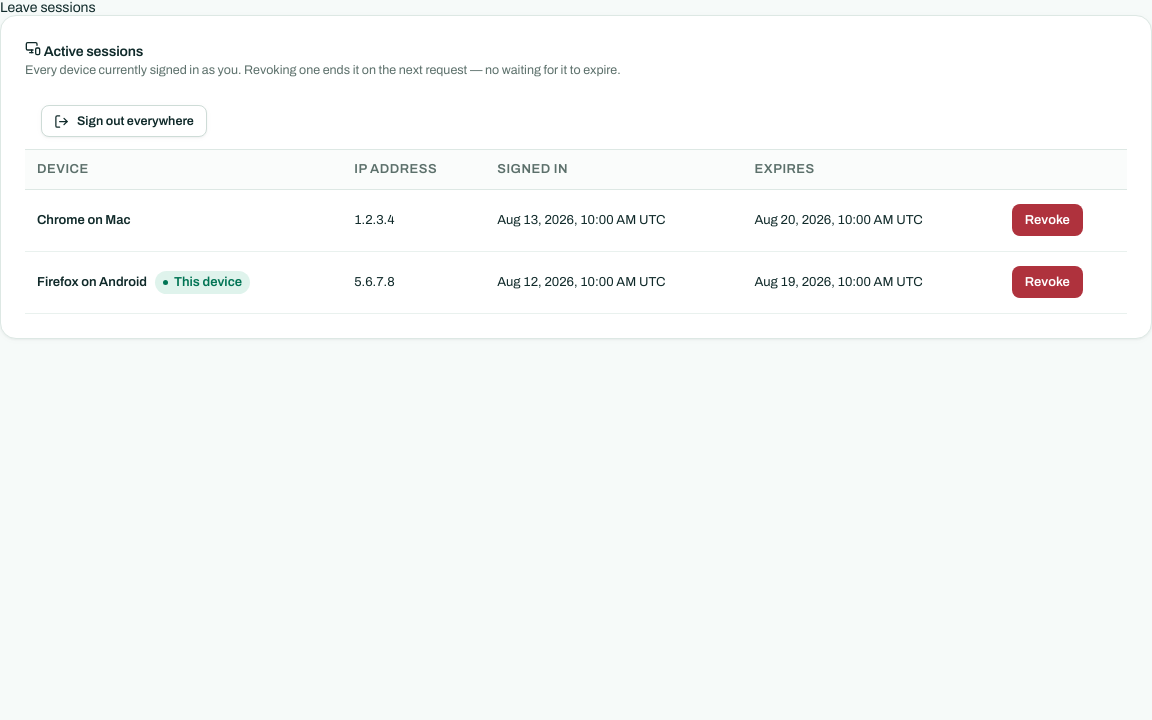
Scenario: session mutation recovery › replays the exact revoke after a lost response without restoring a ghost session
Click the button "Revoke" in the row of "Chrome on Mac" at (1047, 220), box [1012,204,1083,236]
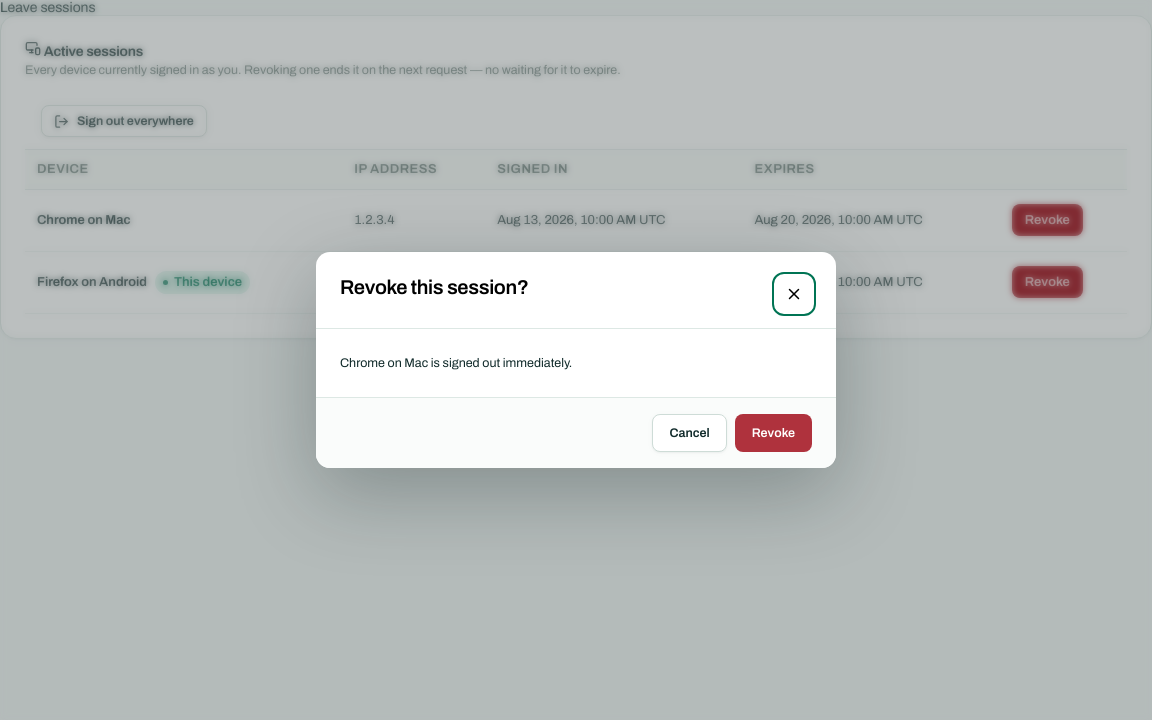
Click the button "Revoke" at (773, 433), box [735,414,812,452]
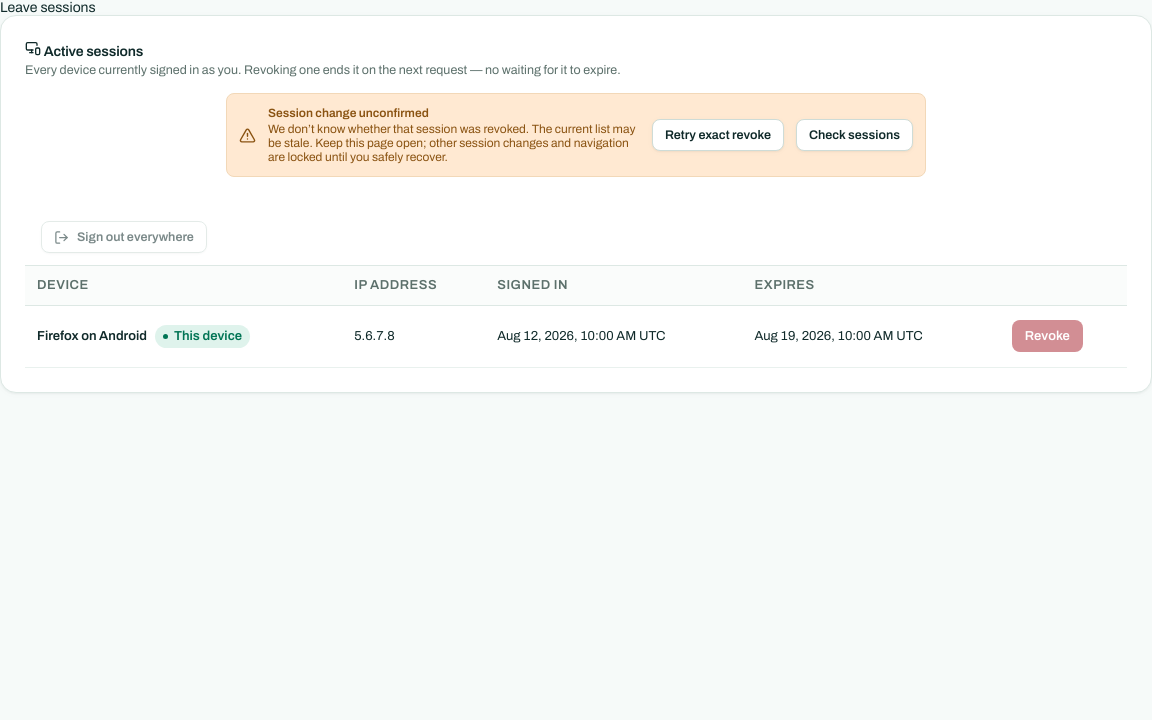
Check: the text "Session change unconfirmed" is shown, box [268,106,429,120]
Check: the text "We don’t know whether that session was revoked." is shown, box [268,122,636,150]
Check: the text "Chrome on Mac" is gone
Click the link to "/organizations" at (48, 8), box [0,0,96,15]
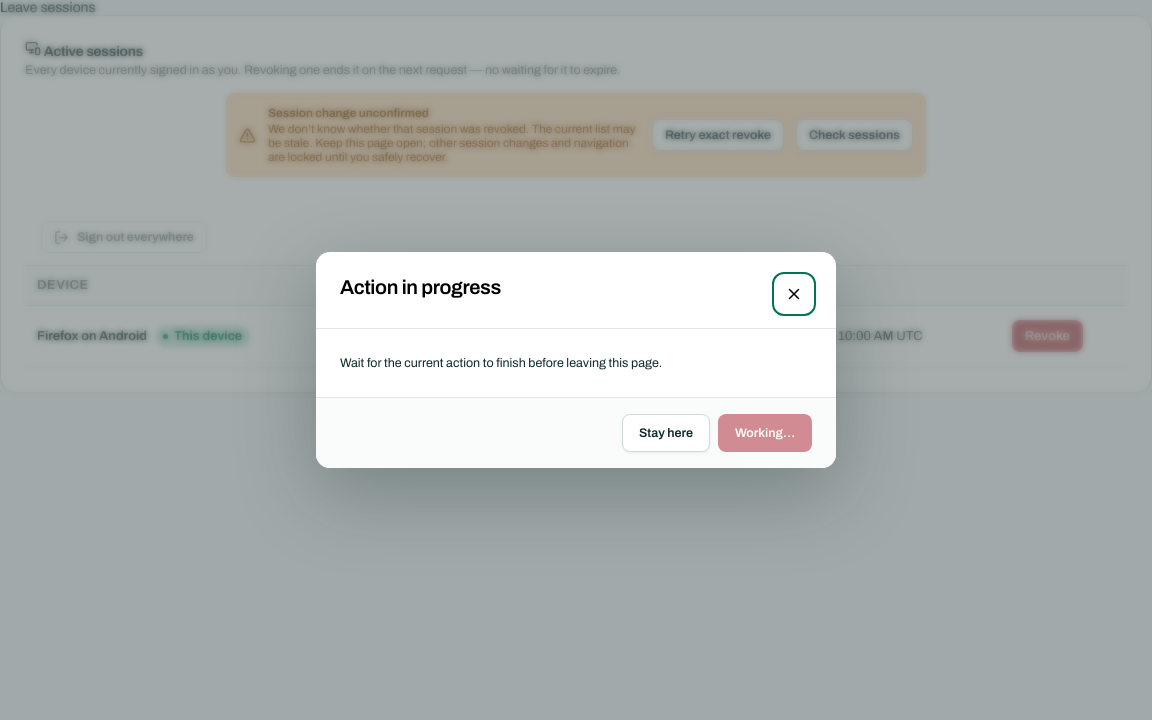
Check: the button "Working…" is disabled, box [718,414,812,452]
Click the button "Stay here" at (666, 433), box [622,414,710,452]
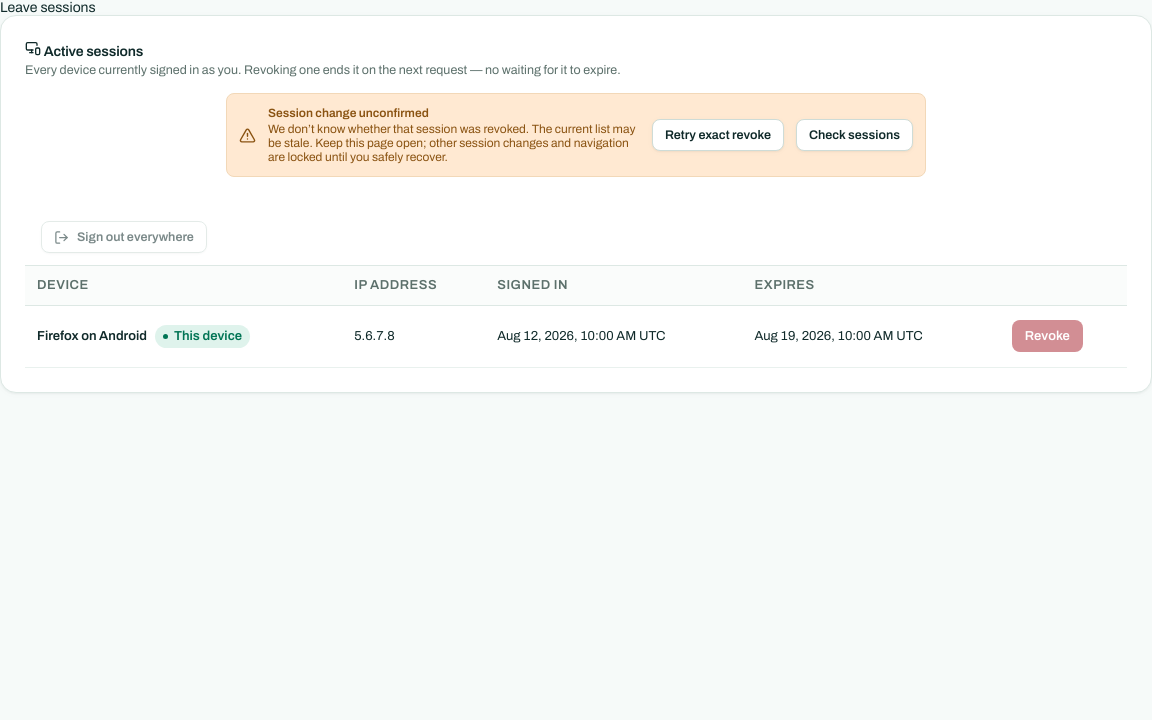
Click the button "Retry exact revoke" at (718, 135), box [652,119,784,151]
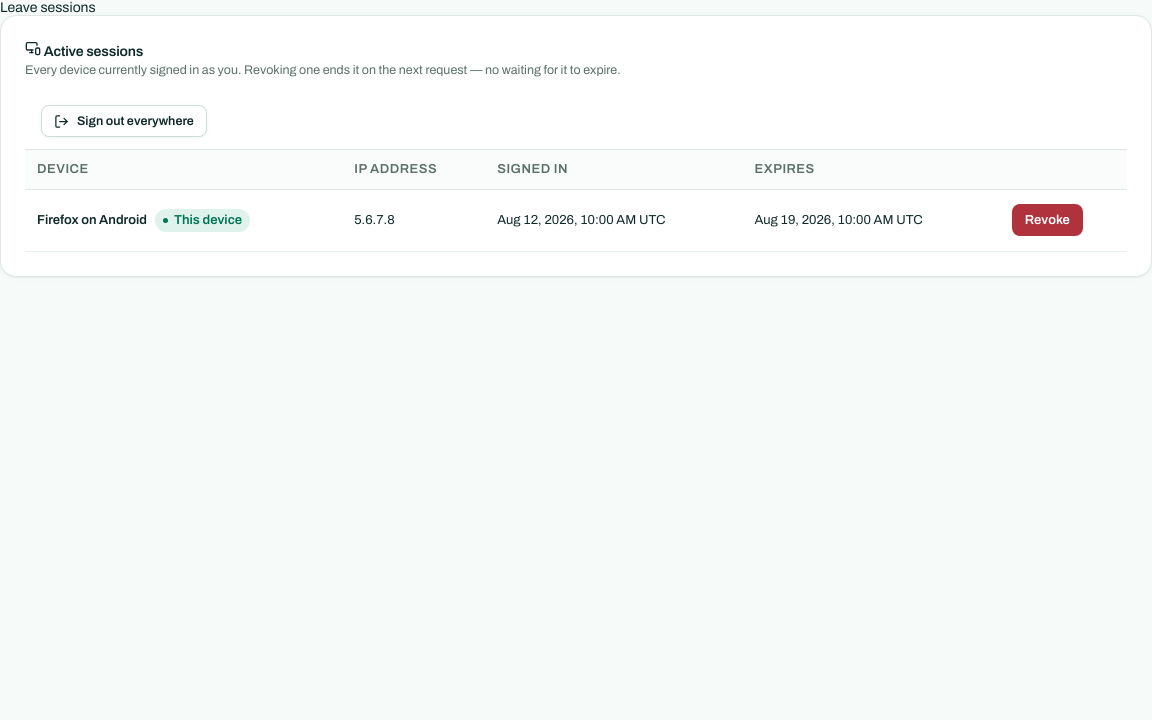
Check: the text "Chrome on Mac" is not shown
Check: the text "Session change unconfirmed" is gone
Check: the button "Sign out everywhere" is enabled, box [41,105,207,137]
